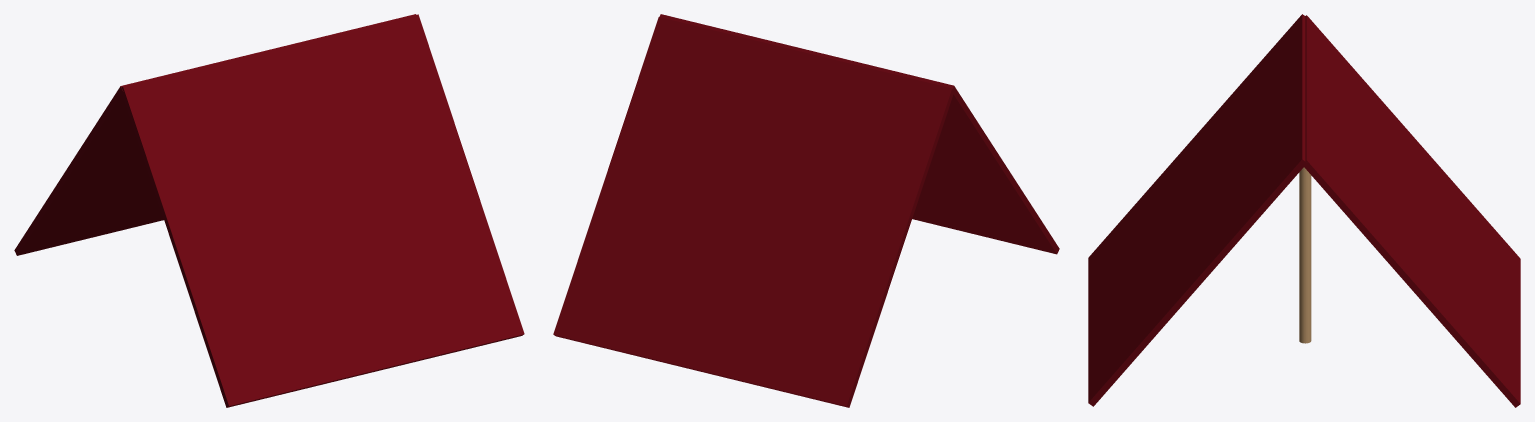
Rendered from TentMesh.glb.
The picture shows the model from 3 angles, left to right: view 1: azimuth 30°, elevation 25°; view 2: azimuth 150°, elevation 25°; view 3: azimuth 270°, elevation 25°; orthographic projection.
Visible parts, largest first — view 1: tent; view 2: tent; view 3: tent.
Boxes of the visible parts, x1=… form: tent: x1=14, y1=14, x2=524, y2=407; tent: x1=553, y1=14, x2=1059, y2=407; tent: x1=1088, y1=14, x2=1520, y2=407.
Bounding box in the file's own units: 2 × 1.63 × 2.52.
